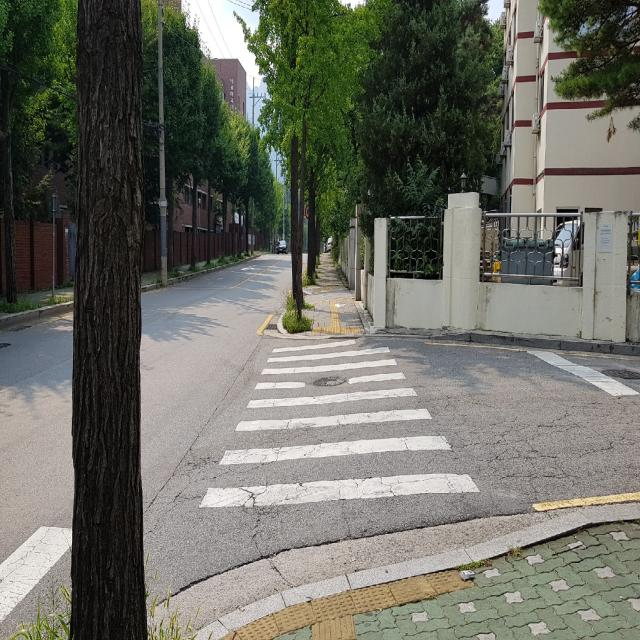횡단보도: (199, 340, 481, 508)
